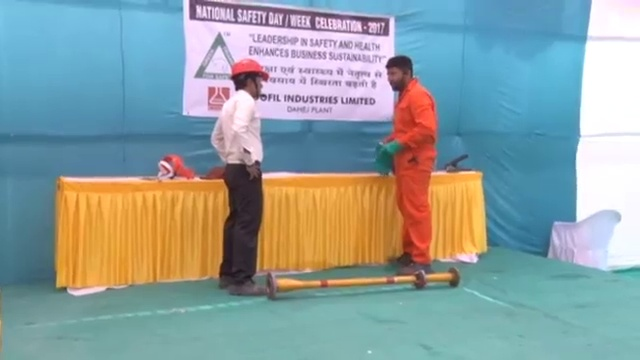helmet: (228, 58, 270, 84)
helmet_off: (384, 55, 414, 92)
helmet_on: (227, 58, 268, 100)
person: (210, 59, 272, 297), (378, 55, 434, 275)
